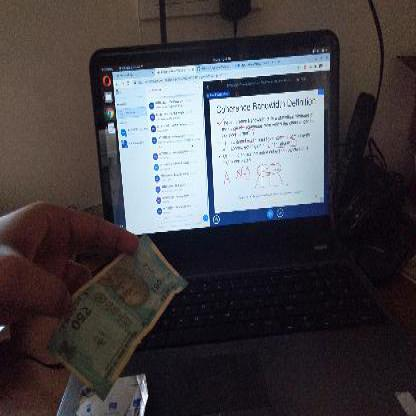New50Front: (60, 233, 186, 390)
